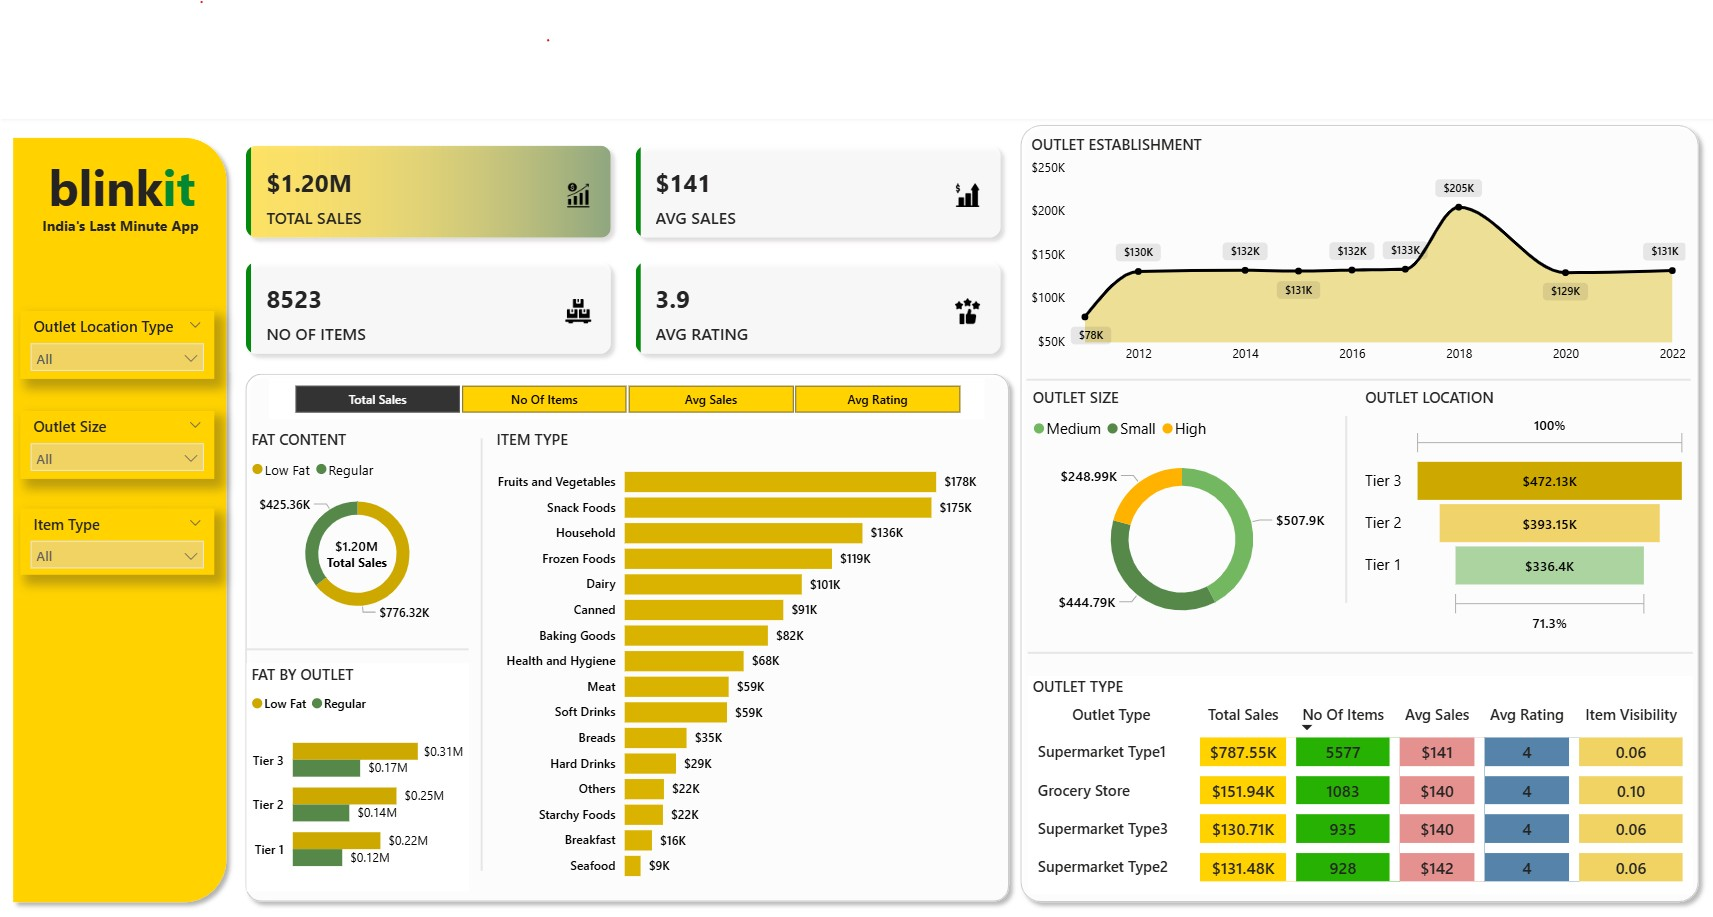

What the dashboard file says about the page in this screenshot:
{"tool":"powerbi","page":{"name":"Blinkit Data Analysis","canvas":[1700,800],"ordinal":0},"visuals":[{"type":"shape","box":[5.4,12.1,229.2,774.8],"z":0},{"type":"textbox","box":[29.5,32.2,183.6,77.7],"z":1000},{"type":"textbox","box":[12.1,93.8,215.8,32.2],"z":2000},{"type":"cardVisual","fields":{"Data":["BlinkIT Grocery Data.Total Sales","BlinkIT Grocery Data.AVG SALES","BlinkIT Grocery Data.No Of Items","BlinkIT Grocery Data.AVR RATING"]},"box":[227.9,12.1,780.2,241.3],"z":3000},{"type":"shape","box":[234.6,246.7,773.5,540.2],"z":4000},{"type":"donutChart","title":"FAT CONTENT","fields":{"Y":["BlinkIT Grocery Data.Total Sales"],"Category":["BlinkIT Grocery Data.Item Fat Content"]},"box":[245.3,309.7,219.8,198.4],"z":5000},{"type":"slicer","fields":{"Values":["Metrics.Metrics"]},"box":[266.8,260.1,707.8,40.2],"z":6000},{"type":"cardVisual","fields":{"Data":["Sum(BlinkIT Grocery Data.Sales)"]},"box":[305.6,399.5,97.9,64.3],"z":7000},{"type":"clusteredBarChart","title":"FAT BY OUTLET","fields":{"Y":["BlinkIT Grocery Data.Total Sales"],"Category":["BlinkIT Grocery Data.Outlet Location Type"],"Series":["BlinkIT Grocery Data.Item Fat Content"]},"box":[245.3,541.6,219.8,225.2],"z":8000},{"type":"shape","box":[244,477.2,221.2,100.5],"z":9000},{"type":"shape","box":[339.8,319.7,274.9,427.8],"z":10000},{"type":"barChart","title":"ITEM TYPE","fields":{"Y":["BlinkIT Grocery Data.Total Sales"],"Category":["BlinkIT Grocery Data.Item Type"]},"box":[487.9,309.7,497.3,458.4],"z":11000},{"type":"shape","box":[1001.3,0,689,786.9],"z":12000},{"type":"lineChart","title":"OUTLET ESTABLISHMENT ","fields":{"Y":["BlinkIT Grocery Data.Total Sales"],"Category":["BlinkIT Grocery Data.Outlet Establishment Year"]},"box":[1017.2,17.7,657.2,235.9],"z":13000},{"type":"shape","box":[1017.2,241.3,657.2,39.5],"z":14000},{"type":"donutChart","title":"OUTLET SIZE","fields":{"Y":["BlinkIT Grocery Data.Total Sales"],"Category":["BlinkIT Grocery Data.Outlet Size"]},"box":[1017.4,268.1,305.6,249.3],"z":15000},{"type":"shape","box":[1312.3,296.2,41.6,185],"z":16000},{"type":"funnel","title":"OUTLET LOCATION","fields":{"Y":["BlinkIT Grocery Data.Total Sales"],"Category":["BlinkIT Grocery Data.Outlet Location Type"]},"box":[1347.2,268.1,328.4,249.3],"z":17000},{"type":"shape","box":[1017.4,516.1,658.2,30.8],"z":18000},{"type":"pivotTable","title":"OUTLET TYPE","fields":{"Rows":["BlinkIT Grocery Data.Outlet Type"],"Values":["BlinkIT Grocery Data.Total Sales","BlinkIT Grocery Data.No Of Items","BlinkIT Grocery Data.Avg Sales","BlinkIT Grocery Data.Avg Rating","Avg(BlinkIT Grocery Data.Item Visibility)"]},"box":[1017.4,553.6,658.2,215.8],"z":19000},{"type":"slicer","fields":{"Values":["BlinkIT Grocery Data.Outlet Location Type"]},"box":[21.4,193,191.7,67],"z":20000},{"type":"slicer","fields":{"Values":["BlinkIT Grocery Data.Outlet Size"]},"box":[21.4,292.2,191.7,67],"z":21000},{"type":"slicer","fields":{"Values":["BlinkIT Grocery Data.Item Type"]},"box":[21.4,388.7,191.7,65.7],"z":22000}]}

Visuals, with their boxes on the page's 1700x800 design canvas (x1, y1, x2, y2). These are canvas units, not pixel positions in the 1713x917 screenshot, which may show the page scaled, cropped or inside an application window:
shape: {"left": 5, "top": 12, "right": 235, "bottom": 787}
textbox: {"left": 30, "top": 32, "right": 213, "bottom": 110}
textbox: {"left": 12, "top": 94, "right": 228, "bottom": 126}
cardVisual - BlinkIT Grocery Data.Total Sales x BlinkIT Grocery Data.AVG SALES: {"left": 228, "top": 12, "right": 1008, "bottom": 253}
shape: {"left": 235, "top": 247, "right": 1008, "bottom": 787}
"FAT CONTENT" donutChart: {"left": 245, "top": 310, "right": 465, "bottom": 508}
slicer - Metrics.Metrics: {"left": 267, "top": 260, "right": 975, "bottom": 300}
cardVisual - Sum(BlinkIT Grocery Data.Sales): {"left": 306, "top": 400, "right": 404, "bottom": 464}
"FAT BY OUTLET" clusteredBarChart: {"left": 245, "top": 542, "right": 465, "bottom": 767}
shape: {"left": 244, "top": 477, "right": 465, "bottom": 578}
shape: {"left": 340, "top": 320, "right": 615, "bottom": 748}
"ITEM TYPE" barChart: {"left": 488, "top": 310, "right": 985, "bottom": 768}
shape: {"left": 1001, "top": 0, "right": 1690, "bottom": 787}
"OUTLET ESTABLISHMENT " lineChart: {"left": 1017, "top": 18, "right": 1674, "bottom": 254}
shape: {"left": 1017, "top": 241, "right": 1674, "bottom": 281}
"OUTLET SIZE" donutChart: {"left": 1017, "top": 268, "right": 1323, "bottom": 517}
shape: {"left": 1312, "top": 296, "right": 1354, "bottom": 481}
"OUTLET LOCATION" funnel: {"left": 1347, "top": 268, "right": 1676, "bottom": 517}
shape: {"left": 1017, "top": 516, "right": 1676, "bottom": 547}
"OUTLET TYPE" pivotTable: {"left": 1017, "top": 554, "right": 1676, "bottom": 769}
slicer - BlinkIT Grocery Data.Outlet Location Type: {"left": 21, "top": 193, "right": 213, "bottom": 260}
slicer - BlinkIT Grocery Data.Outlet Size: {"left": 21, "top": 292, "right": 213, "bottom": 359}
slicer - BlinkIT Grocery Data.Item Type: {"left": 21, "top": 389, "right": 213, "bottom": 454}
